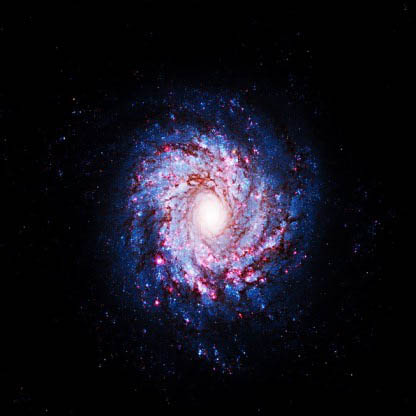NGC 3982: (103, 84, 330, 359)
